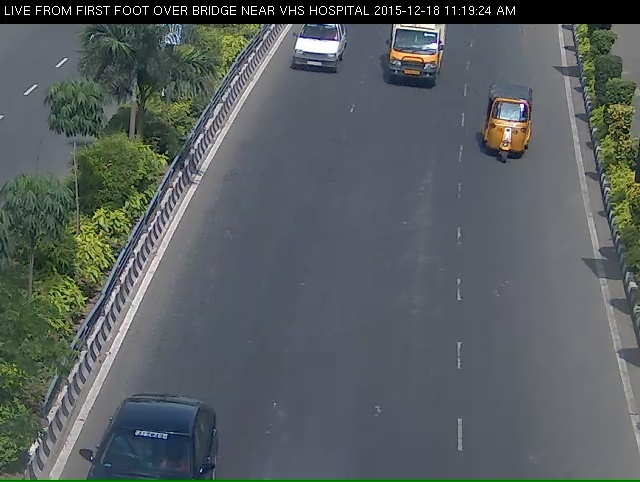Auto: (481, 78, 539, 169)
Bus: (382, 22, 445, 89)
Car: (289, 20, 340, 77)
